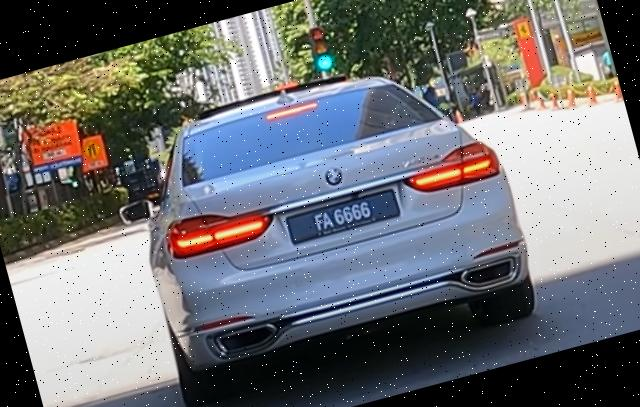License_Plate: (284, 186, 402, 246)
car: (98, 35, 547, 407)
